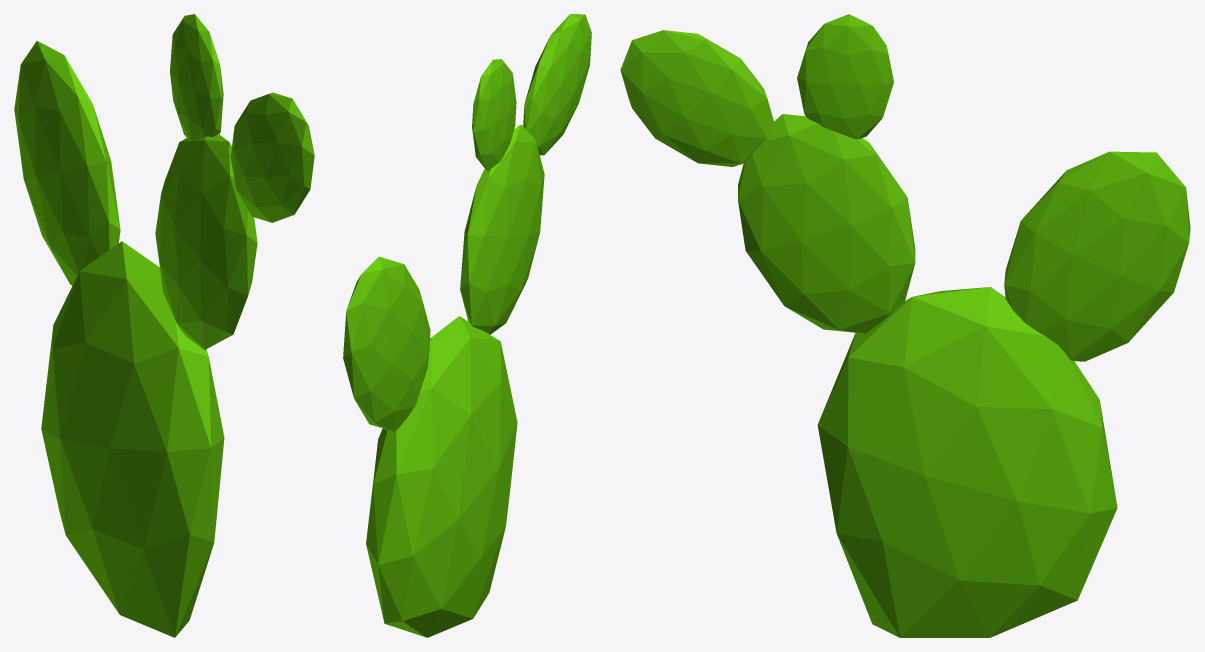
The model's file is Cactus C.obj.
The picture shows the model from 3 angles, left to right: view 1: azimuth 30°, elevation 25°; view 2: azimuth 150°, elevation 25°; view 3: azimuth 270°, elevation 25°; orthographic projection. The views are drawn at different scales.
Visible parts, largest first — view 1: Cactus_C; view 2: Cactus_C; view 3: Cactus_C.
Part boxes in pixels (bbox=[...]): Cactus_C: bbox=[14, 14, 314, 637]; Cactus_C: bbox=[343, 14, 591, 637]; Cactus_C: bbox=[620, 14, 1190, 637].
Size of the model in its own units: 0.2447 by 1.58 by 1.33.
